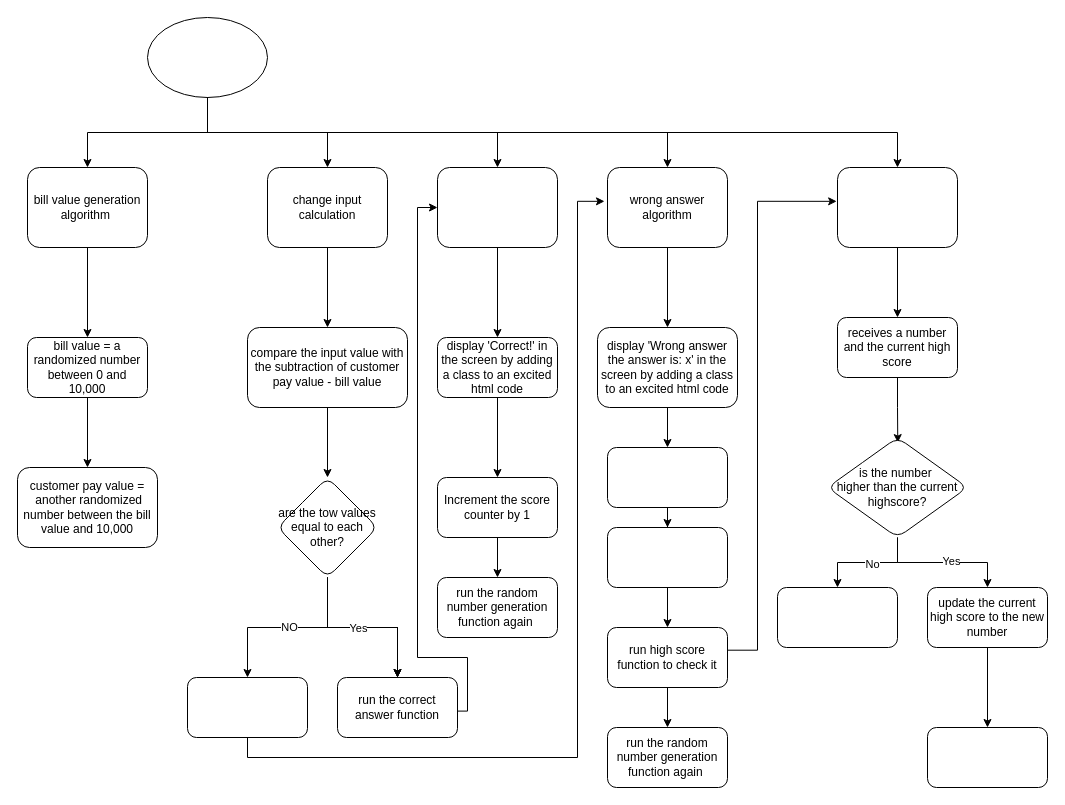
The diagram is 1065 pixels wide and 805 high, and some of its shapes have lost their labels. The centre of each missing label's shape, as x and y in pixels:
"Basic app algorithm" belongs at (x=207, y=57).
"change the x value with the correct answer" belongs at (x=667, y=477).
"correct answer algorithm" belongs at (x=497, y=207).
"do nothing" belongs at (x=837, y=617).
"high score check function" belongs at (x=897, y=207).
"reset the score to 0" belongs at (x=667, y=557).
"run the wrong answer function" belongs at (x=247, y=707).
"update the DOM" belongs at (x=987, y=757).
